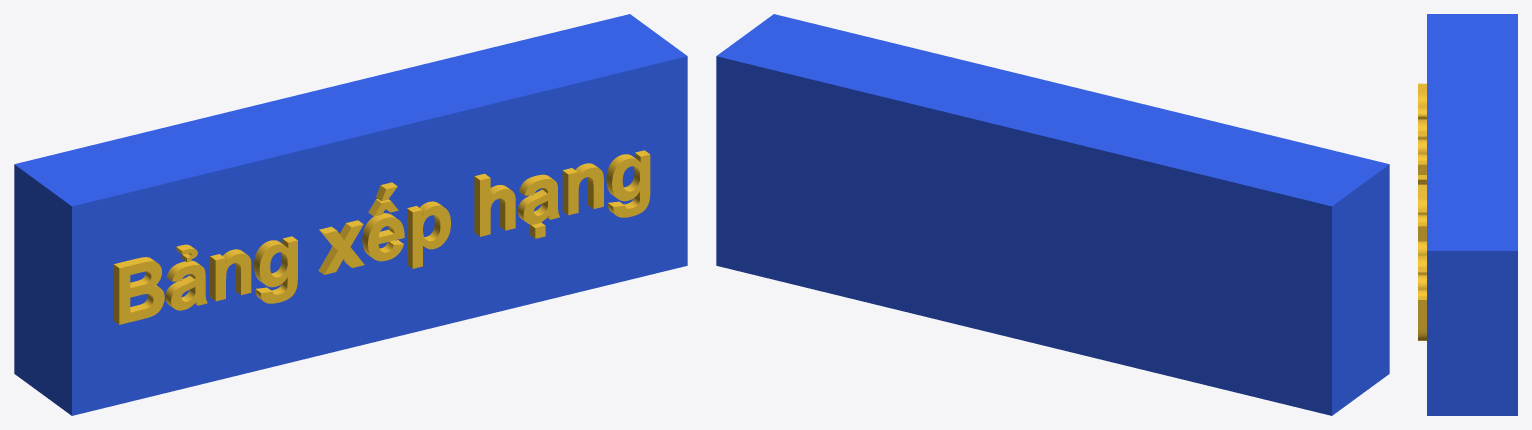
The model's file is list.glb.
3 renders of one model, left to right at view 1: azimuth 30°, elevation 25°; view 2: azimuth 150°, elevation 25°; view 3: azimuth 270°, elevation 25°, orthographic. The views are drawn at different scales.
Parts seen in each view (by area): view 1: Cube, Text.002; view 2: Cube; view 3: Cube, Text.002.
Boxes of the visible parts, x1,y1,x2,y2 form: Cube: [14, 14, 687, 415]; Text.002: [113, 150, 650, 324]; Cube: [716, 14, 1389, 415]; Cube: [1427, 14, 1517, 415]; Text.002: [1418, 83, 1426, 340].
Size of the model in its own units: 2.04 by 0.6639 by 0.364.
